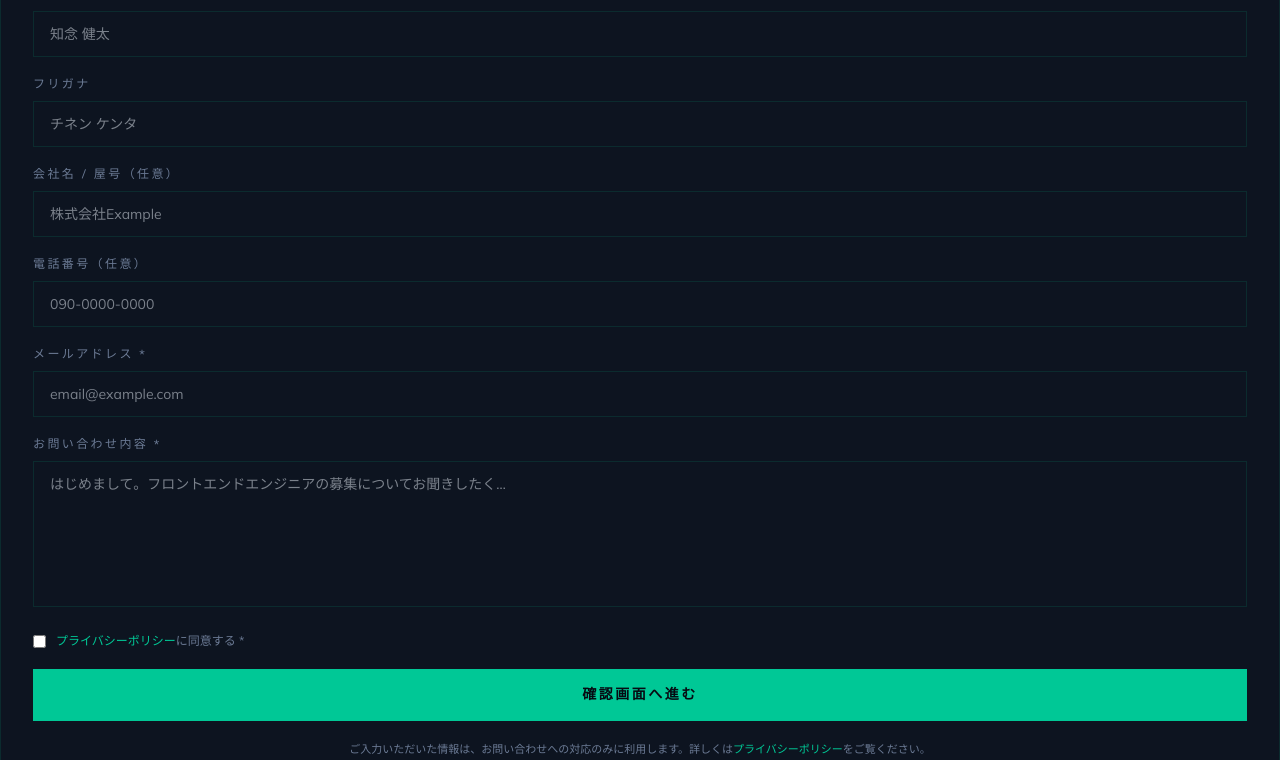
Test case: ContactForm › shows a validation error when submitting with a blank required field
The image size is (1280, 760).
(page scrolled)
Click the button "確認画面へ進む": (640, 695) [33,669,1247,721]
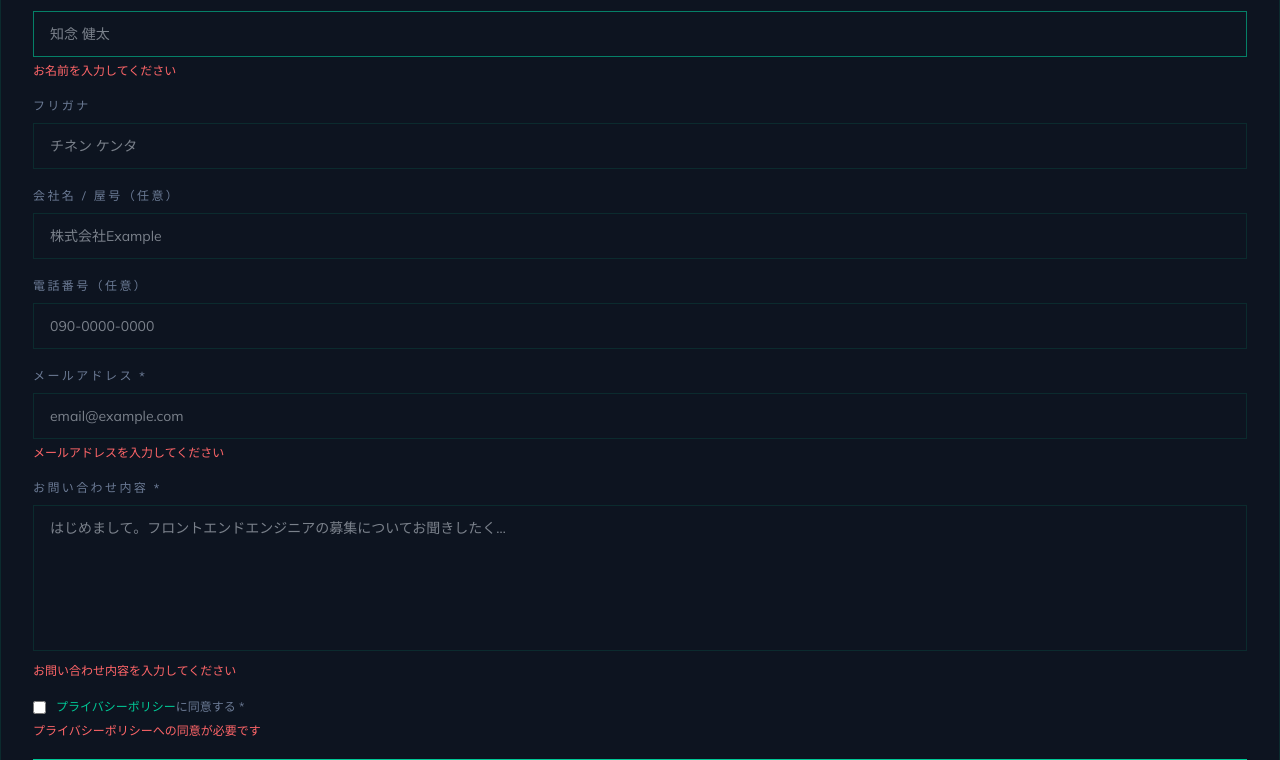
expect the text "お名前を入力してください" is shown: met, box [33,63,176,78]
